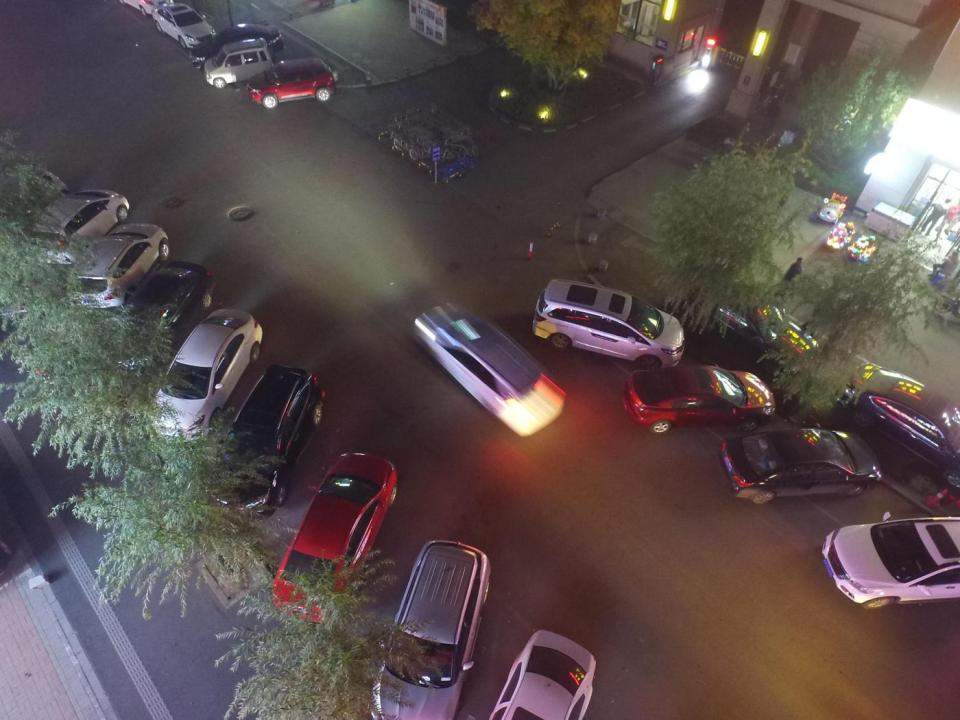car: (272, 453, 396, 625), (414, 305, 566, 436), (834, 362, 960, 487), (152, 308, 261, 441), (678, 278, 820, 377), (821, 512, 960, 608), (719, 423, 881, 504), (105, 262, 212, 370), (622, 363, 775, 435), (486, 630, 596, 720), (68, 223, 169, 310), (31, 190, 129, 265), (0, 167, 69, 256), (190, 21, 283, 70), (246, 58, 334, 109), (203, 38, 275, 88), (152, 3, 216, 48), (120, 0, 174, 16)
van: (370, 540, 491, 720), (206, 363, 325, 518), (533, 278, 684, 368)
